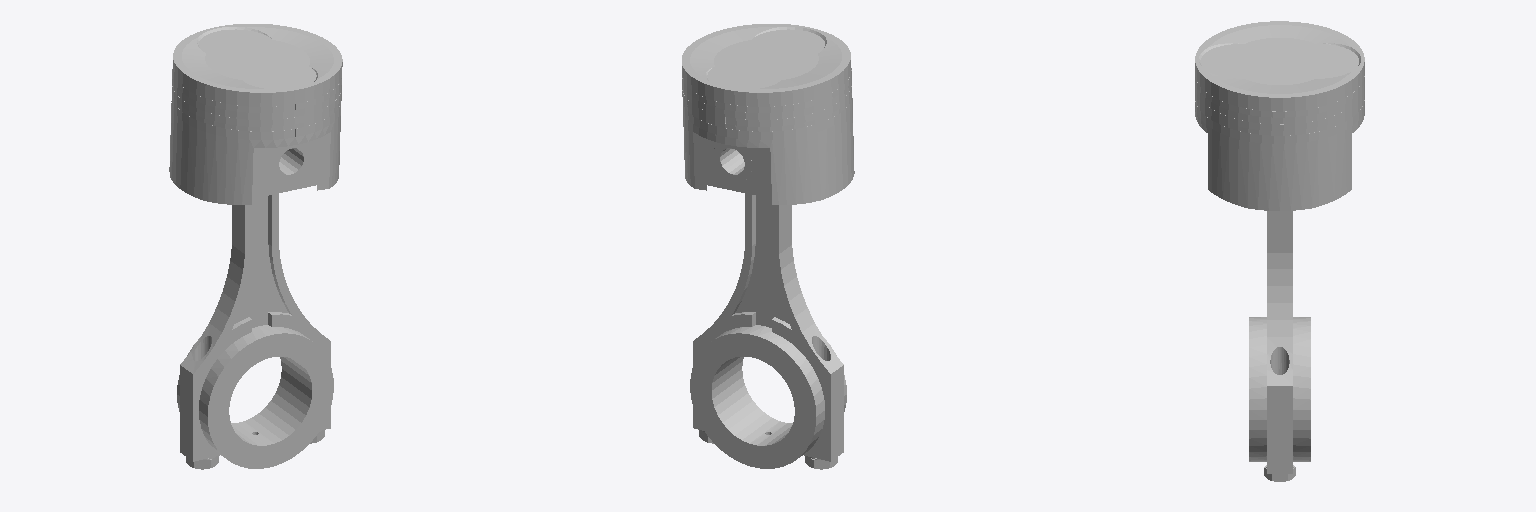
File: Поршень.obj
3 renders of one model, left to right at view 1: azimuth 30°, elevation 25°; view 2: azimuth 150°, elevation 25°; view 3: azimuth 270°, elevation 25°, orthographic.
Parts seen in each view (by area): view 1: Поршень; view 2: Поршень; view 3: Поршень.
Part boxes in pixels (left/top/right/bottom): Поршень: left=169, top=24, right=342, bottom=469; Поршень: left=682, top=24, right=854, bottom=469; Поршень: left=1195, top=21, right=1364, bottom=481.
Bounding box in the file's own units: 83.37 × 211 × 81.53.